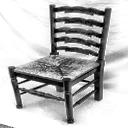chair_success: (2, 1, 115, 124)
